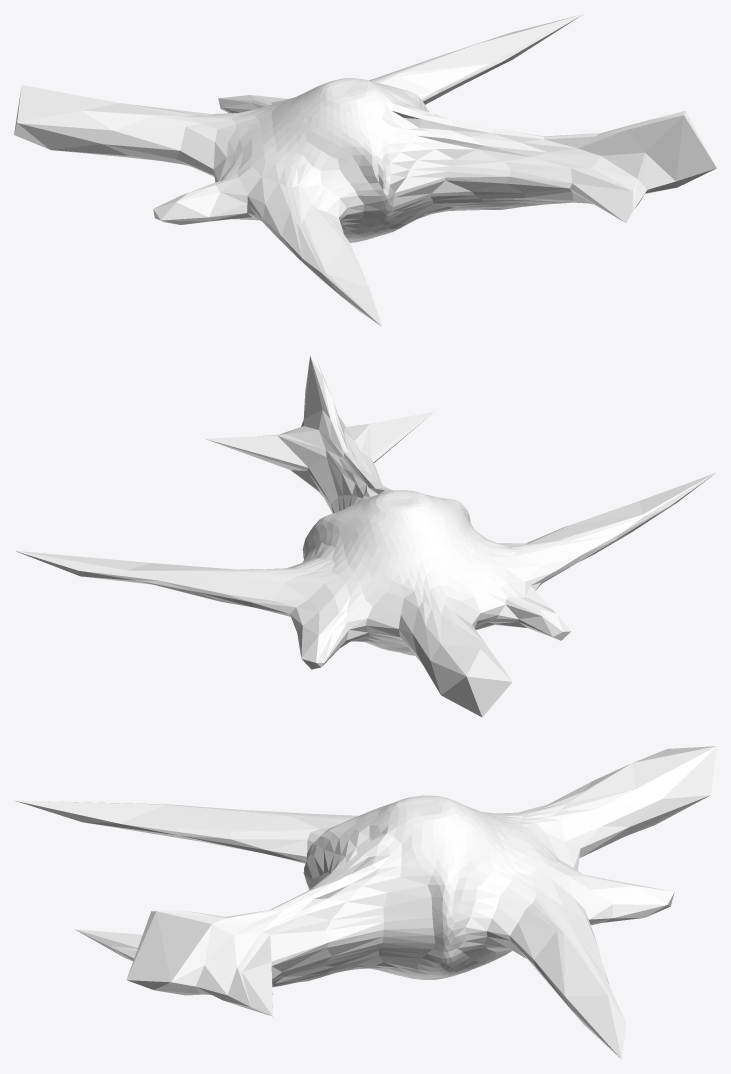
The model's file is plane_rotZ45[0.3,0.0,0.3]s1[-1.7,0.0,-1.7]_00150.obj.
3 views of the same model, one above another, from view 1: azimuth 30°, elevation 25°; view 2: azimuth 150°, elevation 25°; view 3: azimuth 270°, elevation 25° (orthographic). The views are drawn at different scales.
Size of the model in its own units: 1.32 by 0.3654 by 1.31.
1 material, 1 textured.
